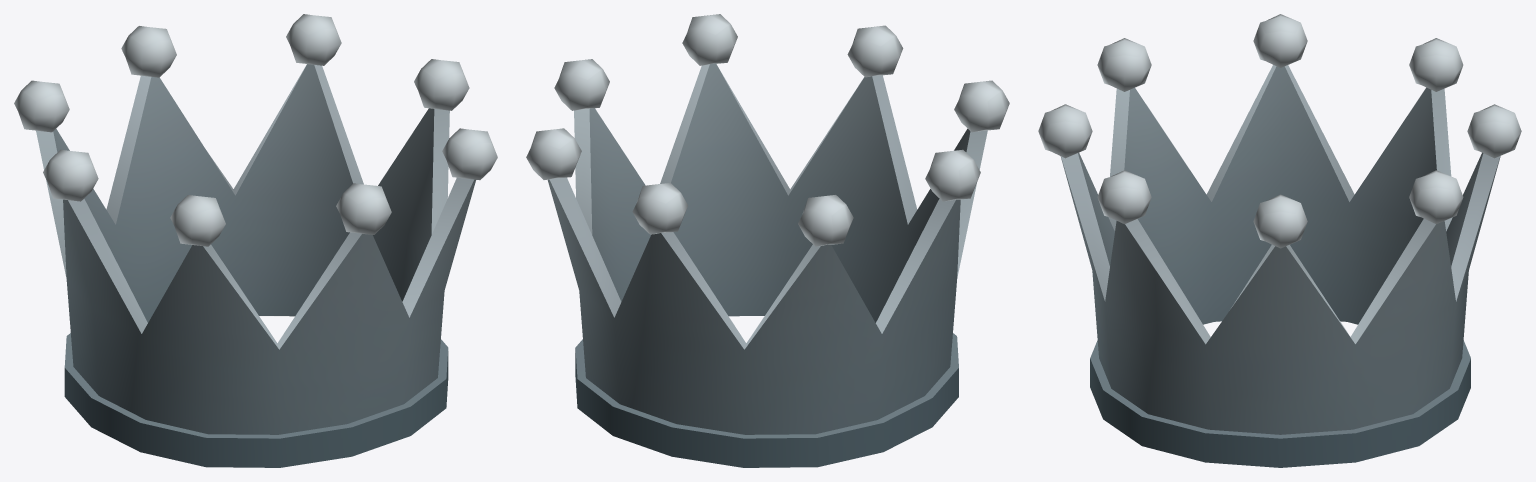
File: wp cap5c.fbx
3 views of the same model, side by side, from view 1: azimuth 30°, elevation 25°; view 2: azimuth 150°, elevation 25°; view 3: azimuth 270°, elevation 25° (orthographic).
Visible parts, largest first — view 1: wp_cap5c; view 2: wp_cap5c; view 3: wp_cap5c.
Part boxes in pixels (box(x1,y1,x2,y2)): wp_cap5c: box(14, 14, 497, 467); wp_cap5c: box(526, 14, 1009, 467); wp_cap5c: box(1038, 14, 1521, 467).
Bounding box in the file's own units: 76.43 × 49.19 × 76.7.
Materials: 1 (1 with a texture image).
